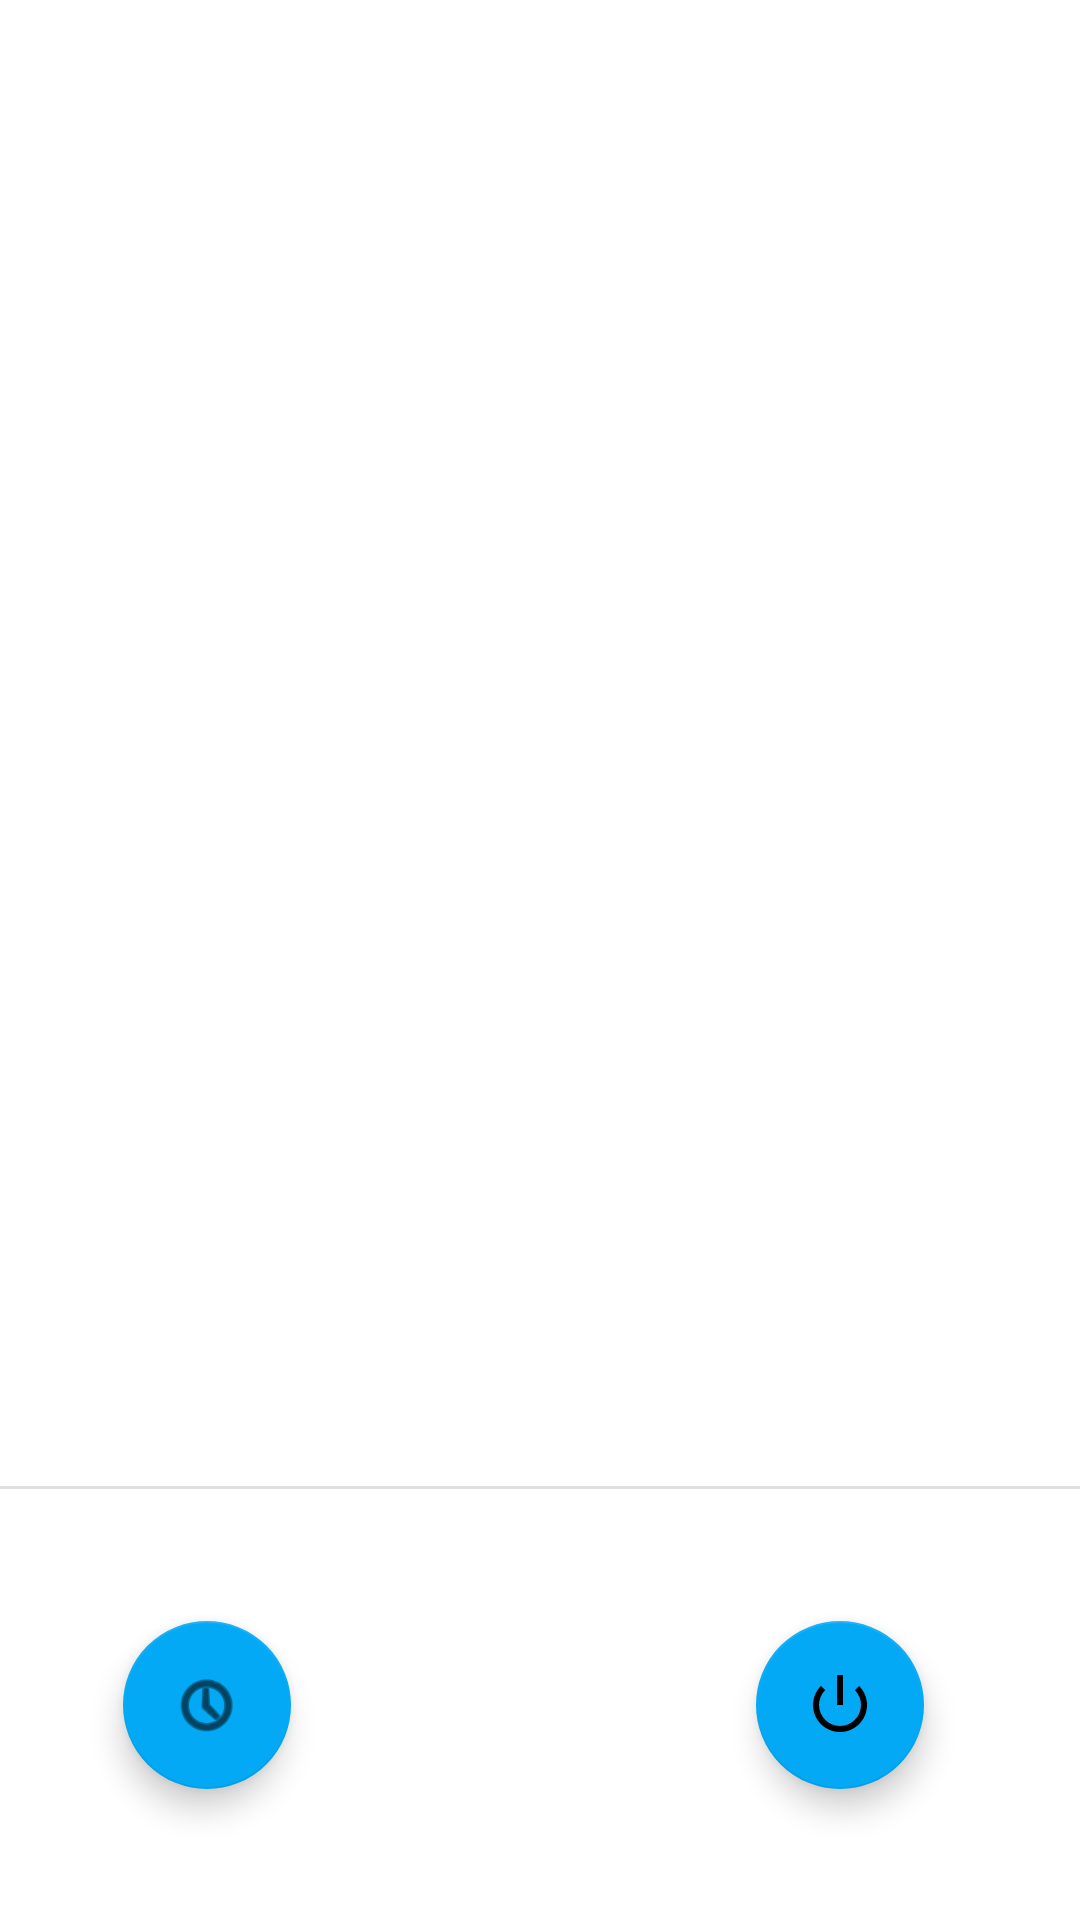

Point at icon controls on the screen. Image size 1080x1920, points as (x=x, y=y).
lock power off: (x=840, y=1705)
recent history: (x=207, y=1705)
